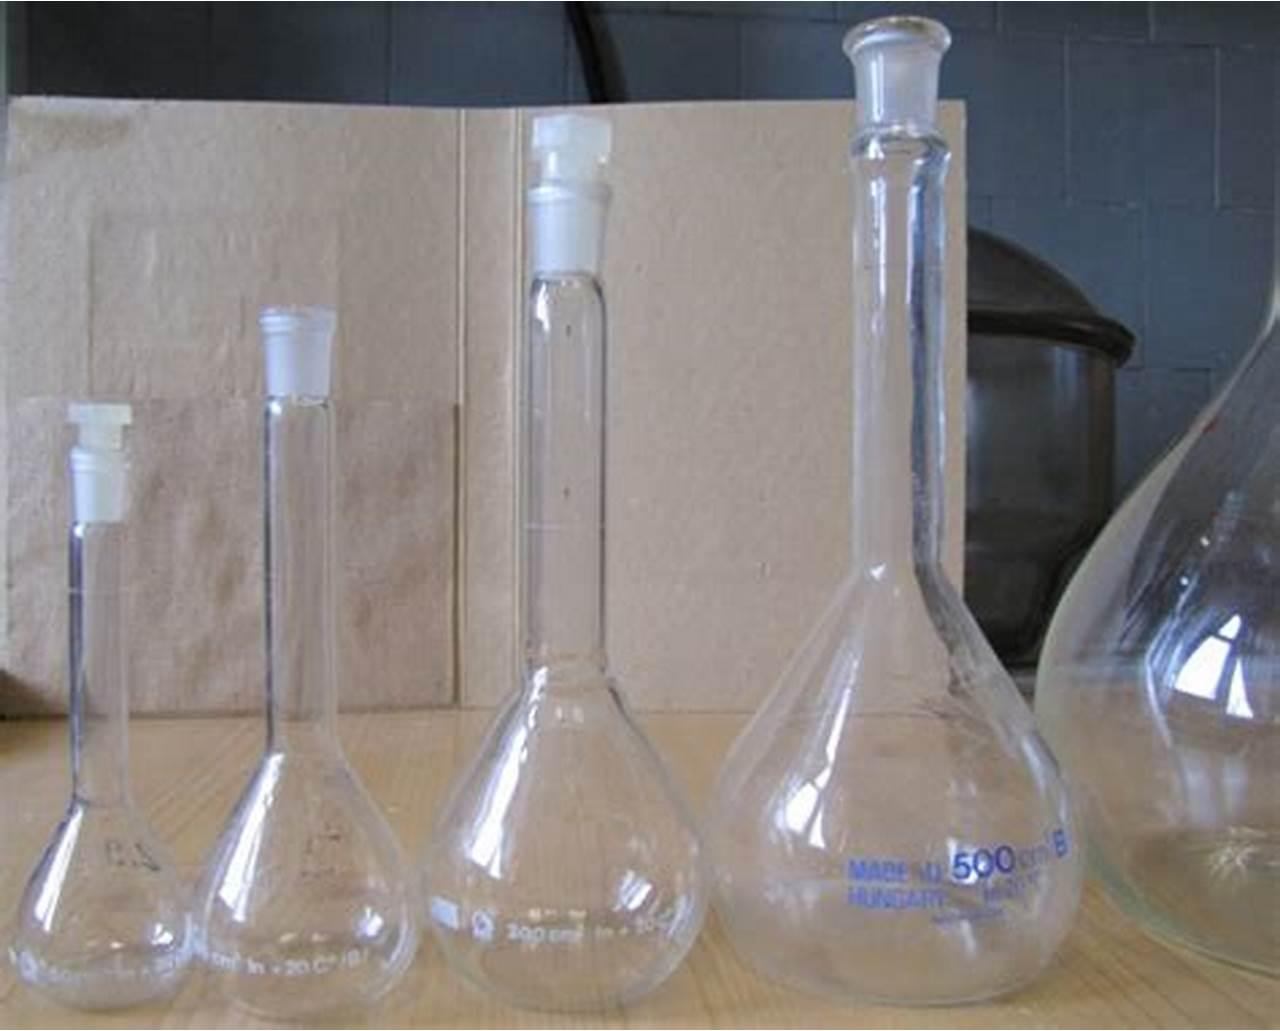Volumetric flask: (718, 24, 1102, 991), (419, 104, 713, 985), (202, 266, 412, 993), (0, 360, 190, 993)
